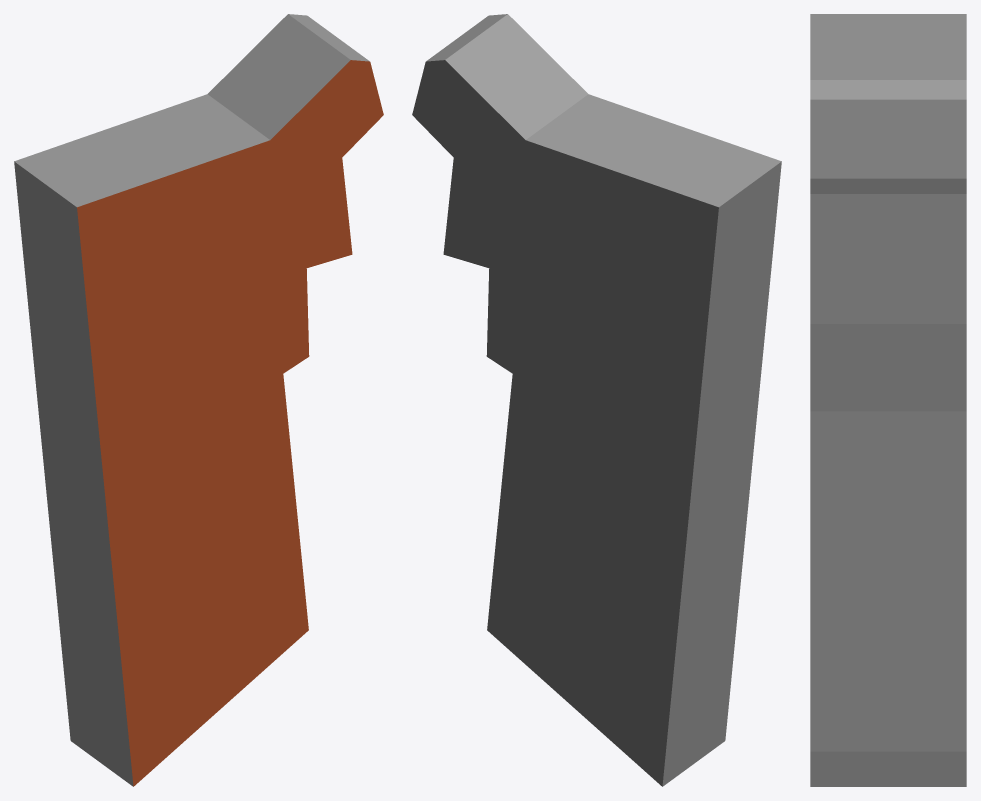
The model's file is construction_1844_assumed_A_Casa_h6m.obj.
The picture shows the model from 3 angles, left to right: view 1: azimuth 30°, elevation 25°; view 2: azimuth 150°, elevation 25°; view 3: azimuth 270°, elevation 25°; orthographic projection. The views are drawn at different scales.
Visible parts, largest first — view 1: construction_1844_assumed_A_Casa; view 2: construction_1844_assumed_A_Casa; view 3: construction_1844_assumed_A_Casa.
Boxes of the visible parts, <box> form: construction_1844_assumed_A_Casa: <box>14,14,383,786</box>; construction_1844_assumed_A_Casa: <box>412,14,781,786</box>; construction_1844_assumed_A_Casa: <box>810,14,966,786</box>.
Size of the model in its own units: 16.9 by 35.47 by 6.
